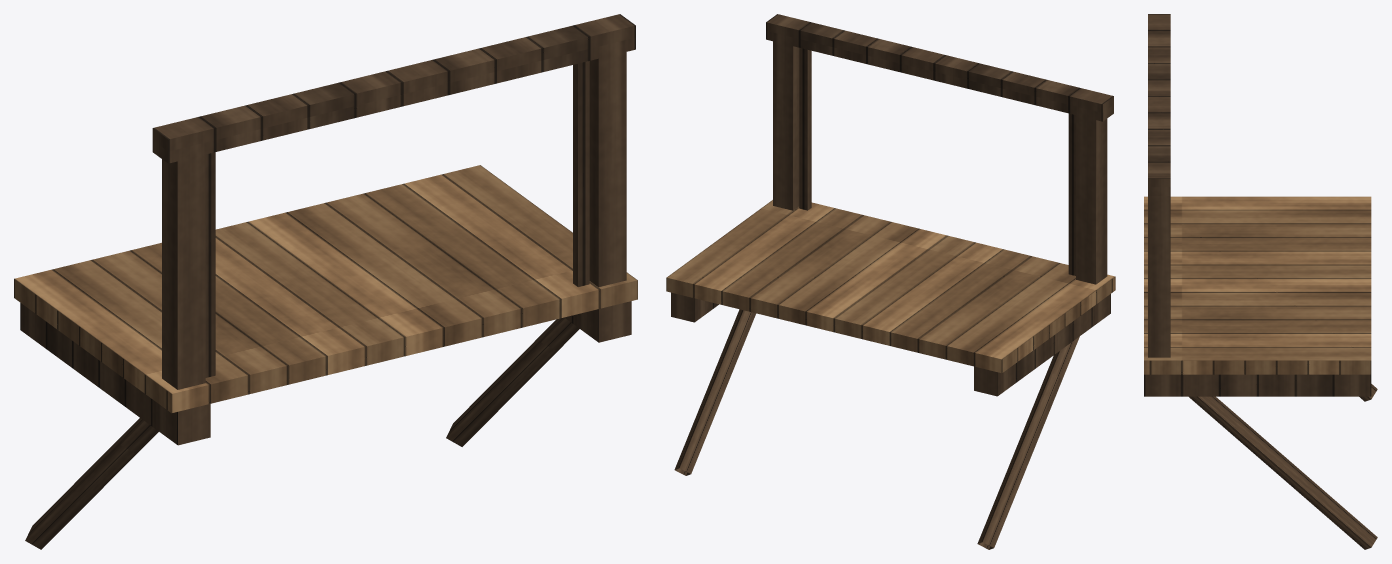
Rendered from Gallery_Wood_1_LOD2.gltf.
The picture shows the model from 3 angles, left to right: view 1: azimuth 30°, elevation 25°; view 2: azimuth 150°, elevation 25°; view 3: azimuth 270°, elevation 25°; orthographic projection. The views are drawn at different scales.
Visible parts, largest first — view 1: Gallery_Wood_1_LOD2; view 2: Gallery_Wood_1_LOD2; view 3: Gallery_Wood_1_LOD2.
Boxes of the visible parts, x1,y1,x2,y2 form: Gallery_Wood_1_LOD2: (14, 14, 637, 549); Gallery_Wood_1_LOD2: (666, 14, 1115, 549); Gallery_Wood_1_LOD2: (1144, 14, 1377, 549).
Bounding box in the file's own units: 2 × 2.15 × 1.2.
Materials: 2 (2 with a texture image).
